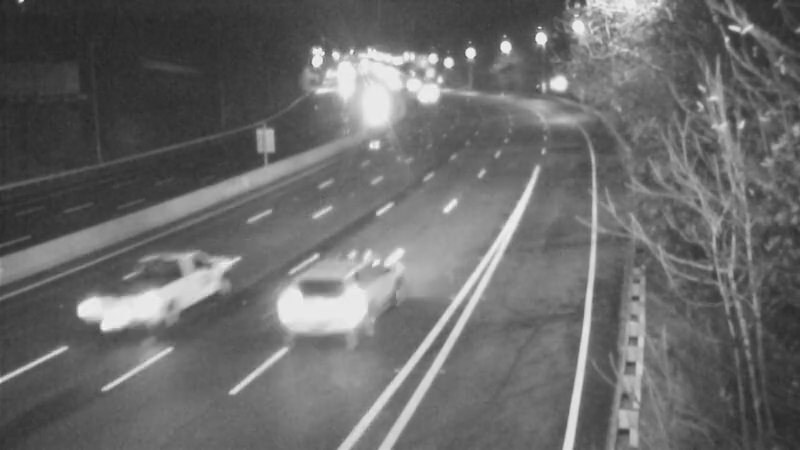vehicle: (263, 254, 373, 364), (69, 255, 179, 365), (397, 69, 447, 119), (347, 77, 397, 127)
